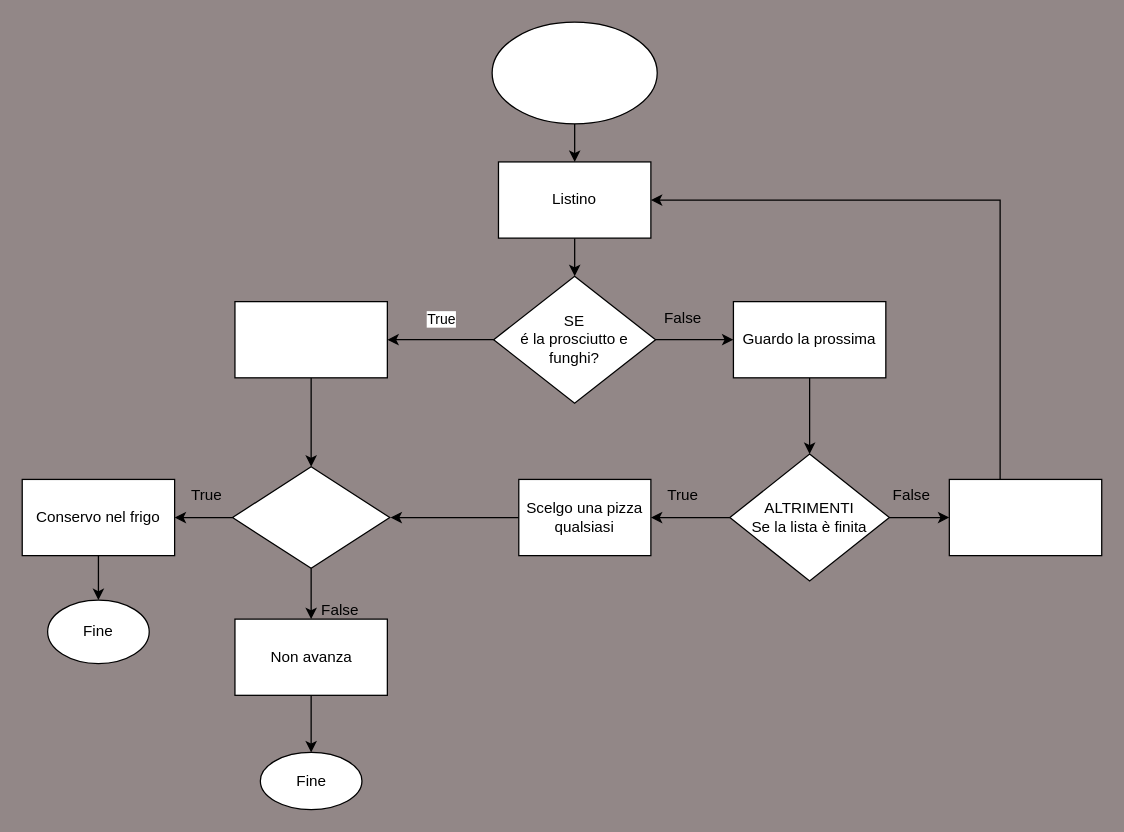
The diagram is 1124 pixels wide and 832 high, and some of its shapes have lost their labels. Each missing label, with the centre of its shape:
Concedersi una PIzza: [574,72]
Ordino la pizza: [310,339]
Riguardo il listino: [1025,517]
SE Avanza?: [310,516]
